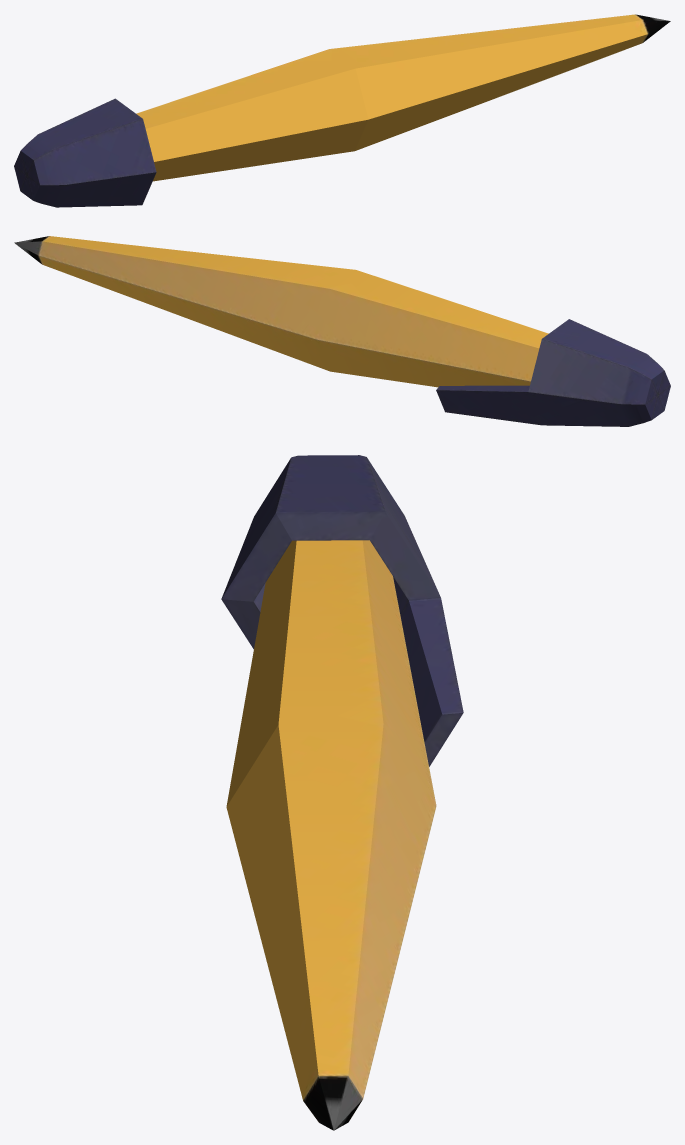
File: pencil.glb
3 renders of one model, top to bottom at view 1: azimuth 30°, elevation 25°; view 2: azimuth 150°, elevation 25°; view 3: azimuth 270°, elevation 25°, orthographic. The views are drawn at different scales.
Parts seen in each view (by area): view 1: Pencil; view 2: Pencil; view 3: Pencil.
Boxes of the visible parts, x1=… form: Pencil: x1=14, y1=14, x2=670, y2=207; Pencil: x1=14, y1=236, x2=670, y2=426; Pencil: x1=221, y1=455, x2=463, y2=1130.
Size of the model in its own units: 0.3169 by 0.0408 by 0.0517.
Materials: 1 (1 with a texture image).
